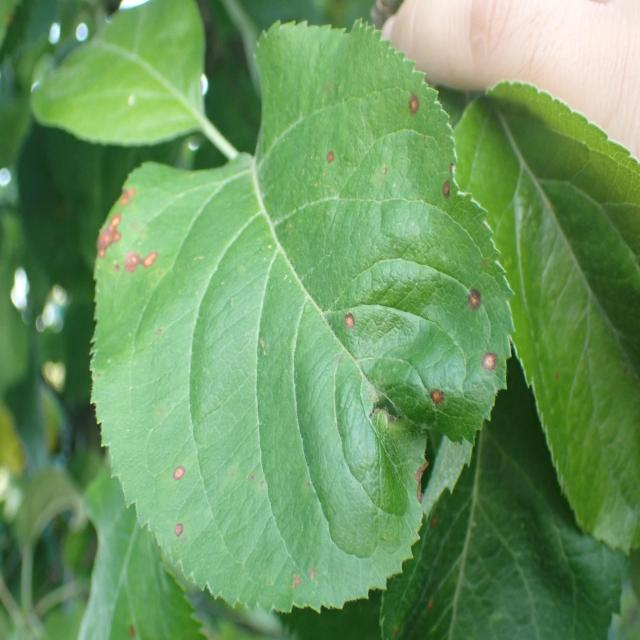Black Rot: (76, 176, 166, 286), (415, 157, 472, 237), (271, 552, 327, 611), (415, 374, 454, 443), (156, 519, 201, 569), (390, 82, 440, 127), (328, 300, 367, 350), (453, 278, 488, 328), (474, 344, 506, 397), (164, 447, 193, 495), (320, 136, 346, 188)
